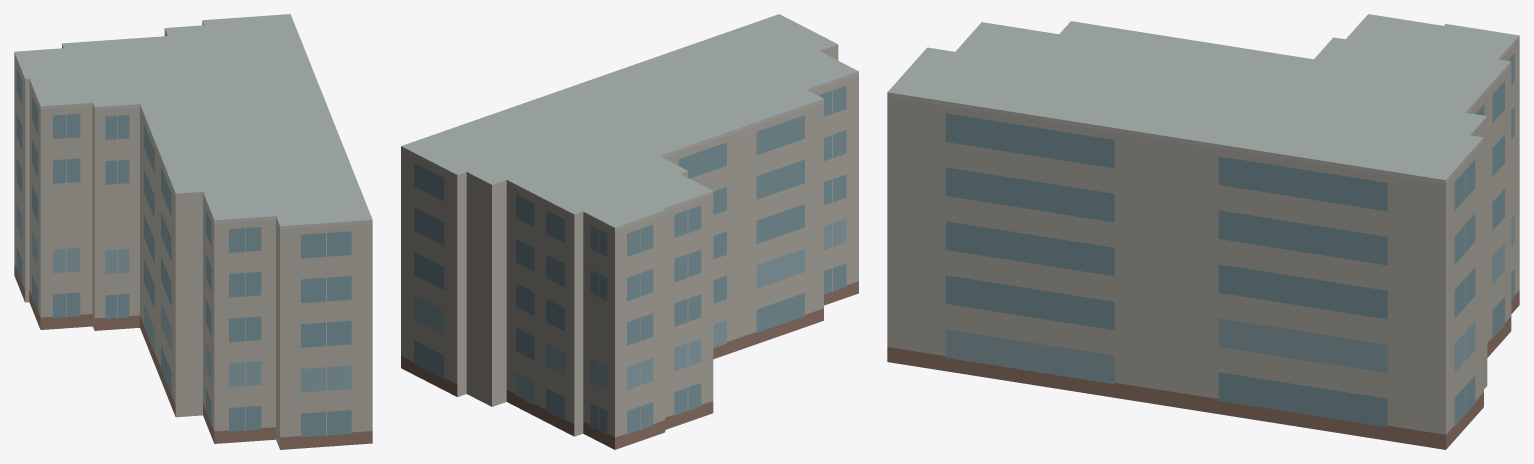
The model's file is survey-upis-32939475.glb.
The picture shows the model from 3 angles, left to right: view 1: azimuth 30°, elevation 25°; view 2: azimuth 150°, elevation 25°; view 3: azimuth 270°, elevation 25°; orthographic projection. The views are drawn at different scales.
Visible parts, largest first — view 1: survey-upis-32939475.tmp; view 2: survey-upis-32939475.tmp; view 3: survey-upis-32939475.tmp.
Part boxes in pixels (left/top/right/bottom): survey-upis-32939475.tmp: left=14, top=14, right=372, bottom=449; survey-upis-32939475.tmp: left=401, top=14, right=858, bottom=449; survey-upis-32939475.tmp: left=887, top=14, right=1519, bottom=449.
Size of the model in its own units: 20.35 by 15.4 by 32.71.
